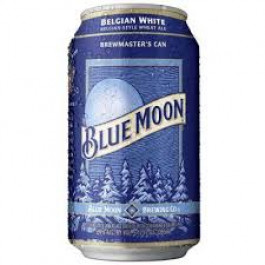beer can: (66, 4, 204, 261)
